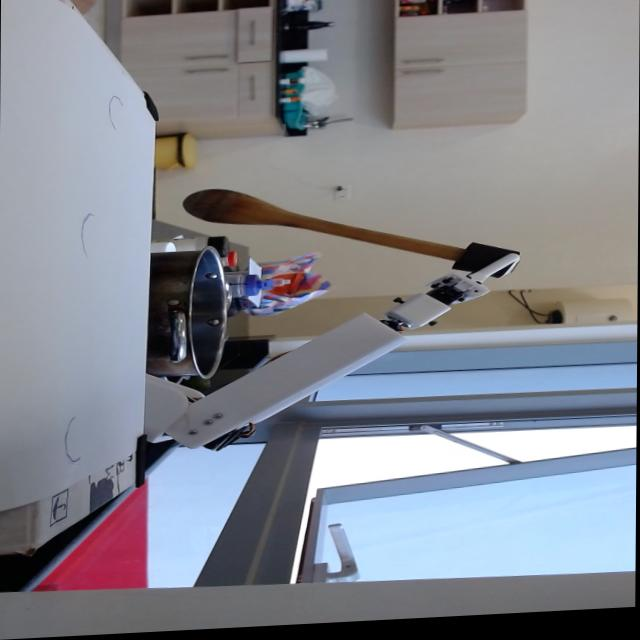cooking_pot: (144, 249, 231, 384)
spatula: (182, 175, 525, 297)
